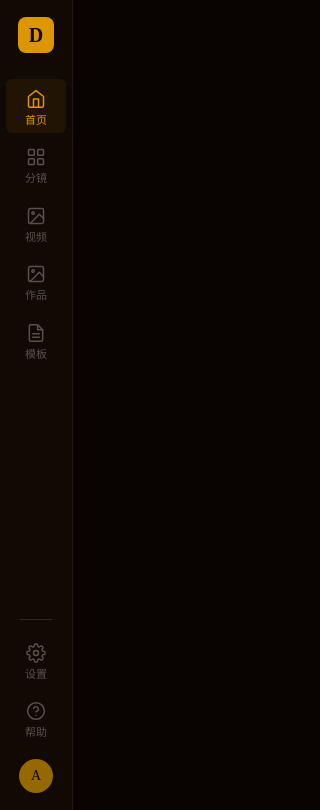
Test case: 侧边栏组件认证集成测试 › 已登录状态 › 点击头像显示用户菜单
The image size is (320, 810).
What coordinates should you click on to do the following:
click the text titled "个人中心"
I would click on:
 (36, 776)
Its box is [19,759,53,793].
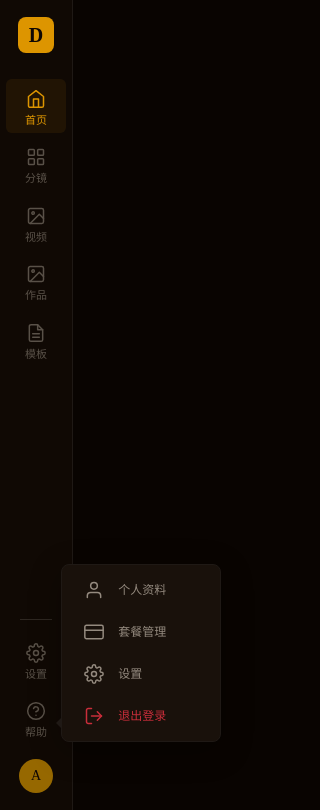
Check: the text "个人资料" is shown, box [118,581,166,599]
Check: the text "套餐管理" is shown, box [118,623,166,641]
Check: the text "退出登录" is shown, box [118,707,166,725]
